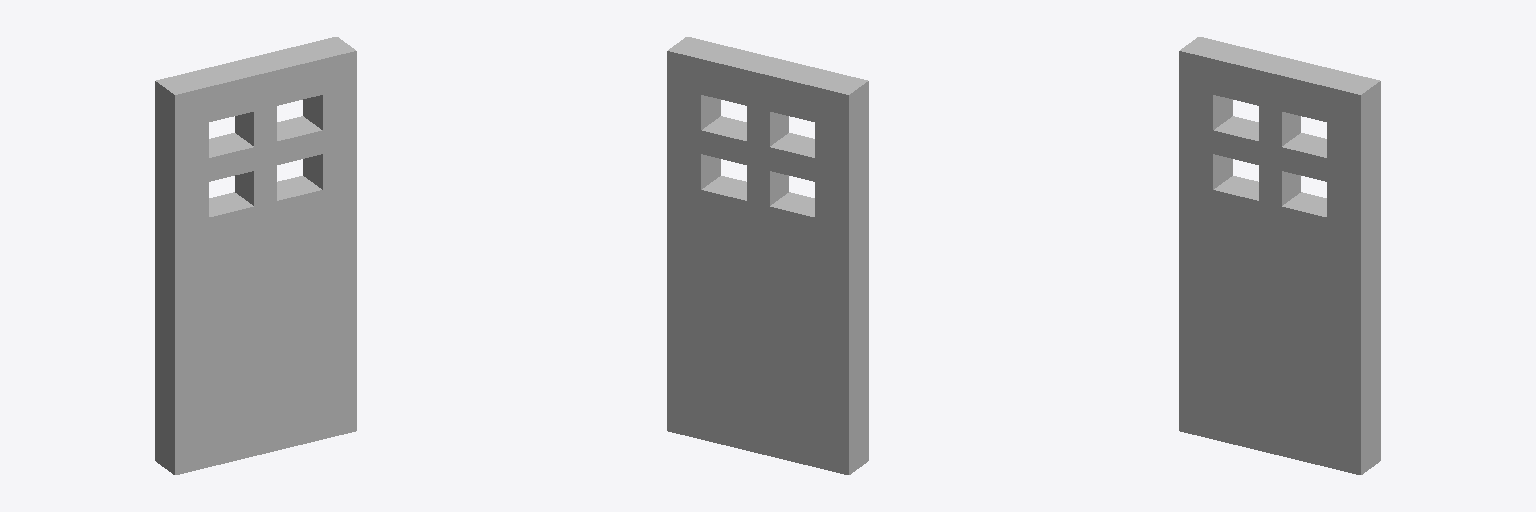
The model's file is pneumaticDoor.obj.
3 views of the same model, side by side, from view 1: azimuth 30°, elevation 25°; view 2: azimuth 150°, elevation 25°; view 3: azimuth 330°, elevation 25° (orthographic).
Bounding box in the file's own units: 1 × 2 × 0.1875.